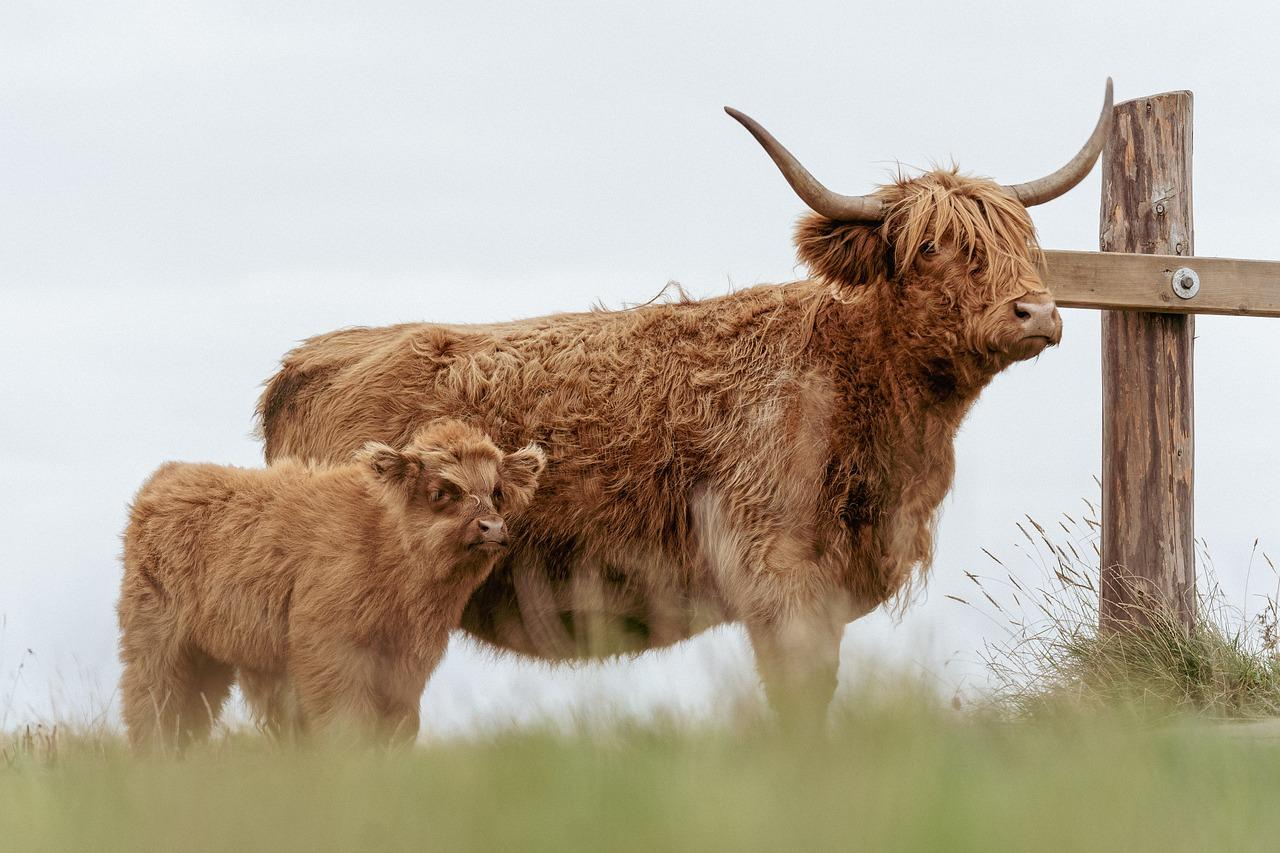Non_Gorille: (58, 10, 1261, 853)
